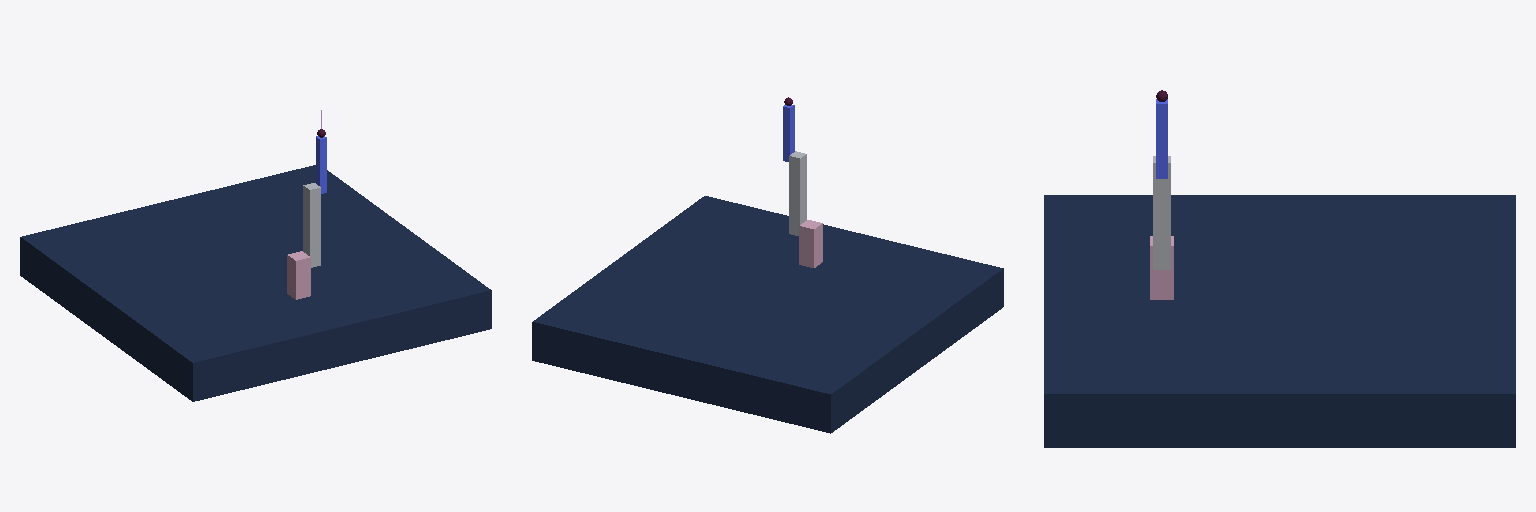
URDF robot description (materials):
<?xml version="1.0"?>
<robot name="materials">
<!-- Define materials -->
  <material name="color_1">
    <color rgba="0.173 0.231 0.349 1"/>
  </material>
  <material name="color_2">
    <color rgba="0.318 0.137 0.255 1"/>
  </material>
  <material name="color_3">
    <color rgba="0.839 0.678 0.773 1"/>
  </material>
  <material name="color_4">
    <color rgba="0.953 0.737 1.0 1"/>
  </material>
  <material name="color_5">
    <color rgba="0.749 0.765 0.788 1"/>
  </material>
  <material name="color_6">
    <color rgba="0.91 0.49 0.839 1"/>
  </material>
  <material name="color_7">
    <color rgba="0.373 0.451 0.957 1"/>
  </material>
  <material name="color_8">
    <color rgba="0.318 0.337 0.051 1"/>
  </material>

<!-- Define robot -->
<!-- Base -->
  <link name="base_link">
    <visual>
      <geometry>
        <box size="4.0 4.0 0.5"/>
      </geometry>
      <origin rpy="0 0 0" xyz="0 0 -0.75"/>
      <material name="color_1"/>
   </visual>
    <collision>
      <geometry>
        <box size="4.0 4.0 0.5"/>
      </geometry>
      <origin rpy="0 0 0" xyz="0 0 -0.75"/>
   </collision>
  </link>
<!-- Arm 1 -->
  <link name="arm_1">
    <visual>
      <geometry>
        <box size="0.2 0.2 0.5"/>
      </geometry>
      <origin rpy="0 0 0" xyz="0 0 0.25"/>
      <material name="color_3"/>
   </visual>
    <collision>
      <geometry>
        <box size="0.2 0.2 0.5"/>
      </geometry>
      <origin rpy="0 0 0" xyz="0 0 0.25"/>
   </collision>
  </link>
<!-- Arm 2 -->
  <link name="arm_2">
    <visual>
      <geometry>
        <box size="0.15 0.15 1.0"/>
      </geometry>
      <origin rpy="0 0 0" xyz="0.075 0 0.425"/>
      <material name="color_5"/>
   </visual>
    <collision>
      <geometry>
        <box size="0.15 0.15 1.0"/>
      </geometry>
      <origin rpy="0 0 0" xyz="0.075 0 0.425"/>
   </collision>
  </link>
<!-- Arm 3 -->
  <link name="arm_3">
    <visual>
      <geometry>
        <box size="0.1 0.1 0.7"/>
      </geometry>
      <origin rpy="0 0 0" xyz="0.05 0 0.3"/>
      <material name="color_7"/>
   </visual>
    <collision>
      <geometry>
        <box size="0.1 0.1 0.7"/>
      </geometry>
      <origin rpy="0 0 0" xyz="0.05 0 0.3"/>
   </collision>
  </link>
<!-- Arm 4 5 6 -->
  <link name="arm_4">
  </link>
  <link name="arm_5">
  </link>
  <link name="arm_6">
    <visual>
      <geometry>
        <sphere radius="0.05"/>
      </geometry>
      <origin rpy="0 0 0" xyz="0 0 0"/>
      <material name="color_2"/>
   </visual>
    <collision>
      <geometry>
        <sphere radius="0.05"/>
      </geometry>
      <origin rpy="0 0 0" xyz="0 0 0"/>
   </collision>
  </link>
<!-- End effector -->
  <link name="end_effector">
    <visual>
      <geometry>
        <cylinder length="0.3" radius="0.0005"/>
      </geometry>
      <origin rpy="0 0 0" xyz="0 0 -0.15"/>
      <material name="color_4"/>
   </visual>
    <collision>
      <geometry>
        <cylinder length="0.3" radius="0.0005"/>
      </geometry>
      <origin rpy="0 0 0" xyz="0 0 -0.15"/>
   </collision>
  </link>
<!-- Define joints -->
  <joint name="base_to_part_1" type="revolute">
    <parent link="base_link"/>
    <child link="arm_1"/>
    <origin rpy="0 0 0" xyz="0 -1.0 -0.5"/>
    <axis xyz="0 0 1"/>
    <limit effort="20" lower="-6.28" upper="6.28" velocity="1.57"/>
  </joint>
  <joint name="arm_1_to_arm_2" type="revolute">
    <parent link="arm_1"/>
    <child link="arm_2"/>
    <origin rpy="0 0 0" xyz="0.1 0 0.425"/>
    <axis xyz="1 0 0"/>
    <limit effort="20" lower="-6.28" upper="6.28" velocity="1.57"/>
  </joint>
  <joint name="arm_2_to_arm_3" type="revolute">
    <parent link="arm_2"/>
    <child link="arm_3"/>
    <origin rpy="0 0 0" xyz="0.15 0 0.875"/>
    <axis xyz="1 0 0"/>
    <limit effort="20" lower="-6.28" upper="6.28" velocity="1.57"/>
  </joint>
  <joint name="arm_3_to_arm_4" type="revolute">
    <parent link="arm_3"/>
    <child link="arm_4"/>
    <origin rpy="0 0 0" xyz="0.05 0 0.7"/>
    <axis xyz="0 0 1"/>
    <limit effort="20" lower="-6.28" upper="6.28" velocity="1.57"/>
  </joint>
  <joint name="arm_4_to_arm_5" type="revolute">
    <parent link="arm_4"/>
    <child link="arm_5"/>
    <origin rpy="0 0 0" xyz="0 0 0"/>
    <axis xyz="0 1 0"/>
    <limit effort="20" lower="-6.28" upper="6.28" velocity="1.57"/>
  </joint>
  <joint name="arm_5_to_arm_6" type="revolute">
    <parent link="arm_5"/>
    <child link="arm_6"/>
    <origin rpy="0 0 0" xyz="0 0 0"/>
    <axis xyz="1 0 0"/>
    <limit effort="20" lower="-6.28" upper="6.28" velocity="1.57"/>
  </joint>
  <joint name="arm_6_to_end_effector" type="revolute">
    <parent link="arm_6"/>
    <child link="end_effector"/>
    <origin rpy="0 0 0" xyz="0 0 0.3"/>
    <axis xyz="0 0 1"/>
    <limit effort="0" lower="0" upper="0" velocity="0"/>
  </joint>
</robot>

--- Facts derived from the render (not from the file) ---
The picture shows the robot from 3 angles, left to right: view 1: azimuth 30°, elevation 25°; view 2: azimuth 150°, elevation 25°; view 3: azimuth 270°, elevation 25°; orthographic projection.
Robot: materials — 8 links, 7 joints (7 revolute); root link base_link; default pose: all joints at 0.
Links seen in each view (by area): view 1: base_link, arm_2, arm_1, arm_3; view 2: base_link, arm_2, arm_1, arm_3; view 3: base_link, arm_2, arm_3, arm_1.
Link boxes in pixels (<box>): base_link: <box>20,165,491,401</box>; arm_2: <box>303,183,320,267</box>; arm_1: <box>287,251,310,299</box>; arm_3: <box>316,136,326,193</box>; base_link: <box>532,196,1003,433</box>; arm_2: <box>789,151,806,235</box>; arm_1: <box>799,220,822,267</box>; arm_3: <box>783,105,794,161</box>; base_link: <box>1044,195,1515,447</box>; arm_2: <box>1153,156,1170,269</box>; arm_3: <box>1156,99,1167,178</box>; arm_1: <box>1150,236,1173,299</box>.
Bounding box of the posed robot: 4 × 4 × 2.8 m (x, y, z).
Geometry: primitives only (box / cylinder / sphere), no mesh files.